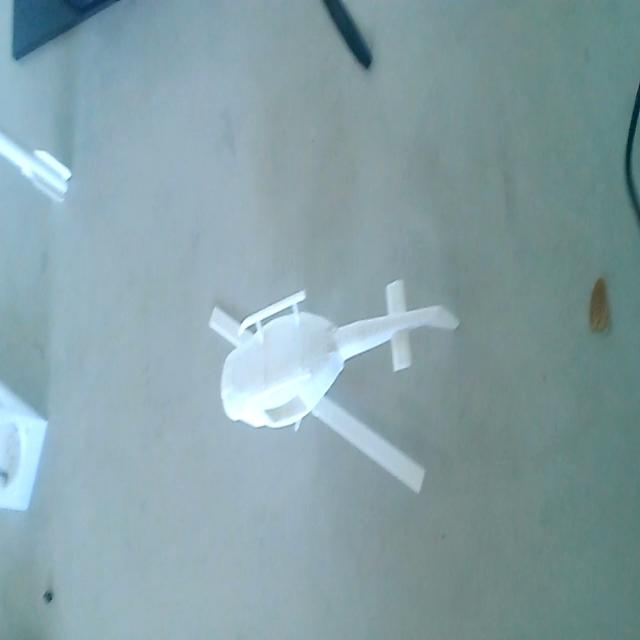Helicopter: (204, 287, 462, 497)
Rocket: (0, 124, 71, 212)
